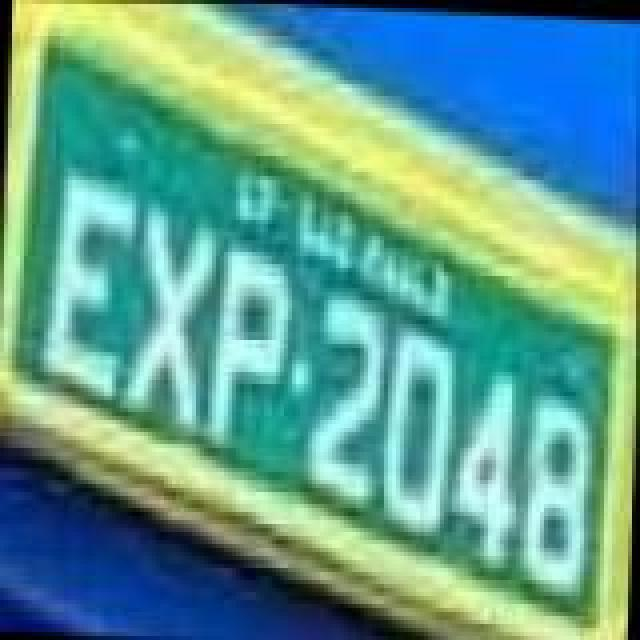2: (306, 292, 390, 504)
4: (452, 362, 528, 574)
8: (518, 390, 594, 598)
E: (38, 164, 138, 408)
O: (376, 326, 460, 538)
P: (204, 244, 296, 444)
X: (120, 206, 220, 426)
